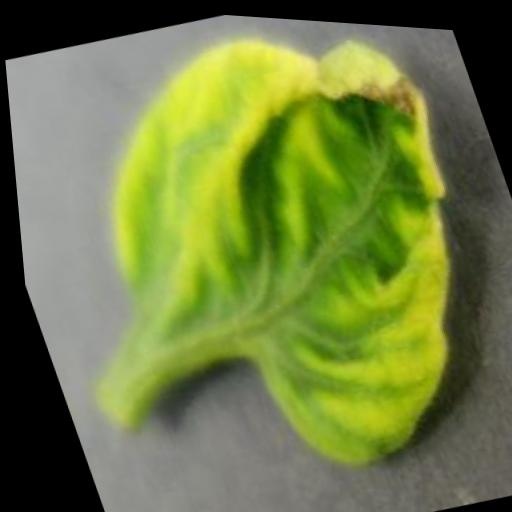Yellow Leaf Curl Virus: (42, 2, 512, 512)
